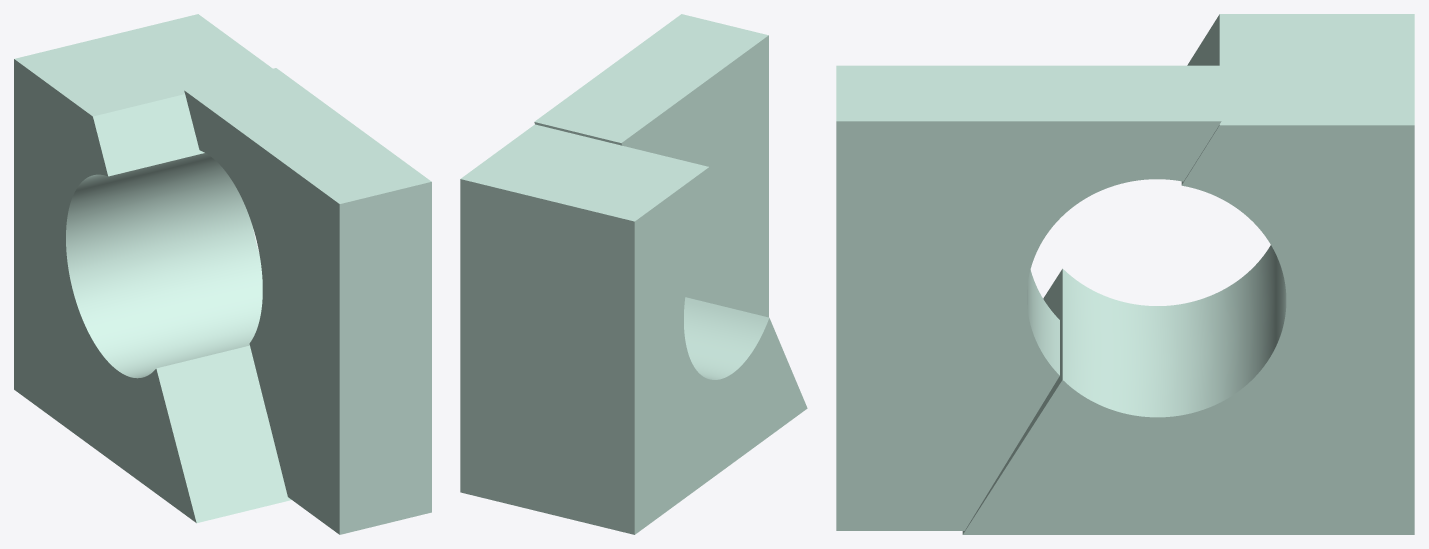
3 renders of one model, left to right at view 1: azimuth 30°, elevation 25°; view 2: azimuth 150°, elevation 25°; view 3: azimuth 270°, elevation 25°, orthographic. The views are drawn at different scales.
Visible parts, largest first — view 1: Renderer Node; view 2: Renderer Node; view 3: Renderer Node.
Part boxes in pixels (x1=…): Renderer Node: x1=14, y1=14, x2=431, y2=534; Renderer Node: x1=460, y1=14, x2=807, y2=534; Renderer Node: x1=836, y1=14, x2=1414, y2=534.
Size of the model in its own units: 0.4688 by 0.8125 by 1.03.
